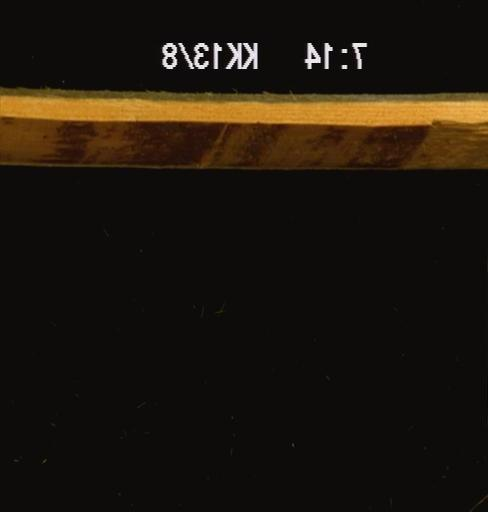wave: (0, 114, 486, 162)
